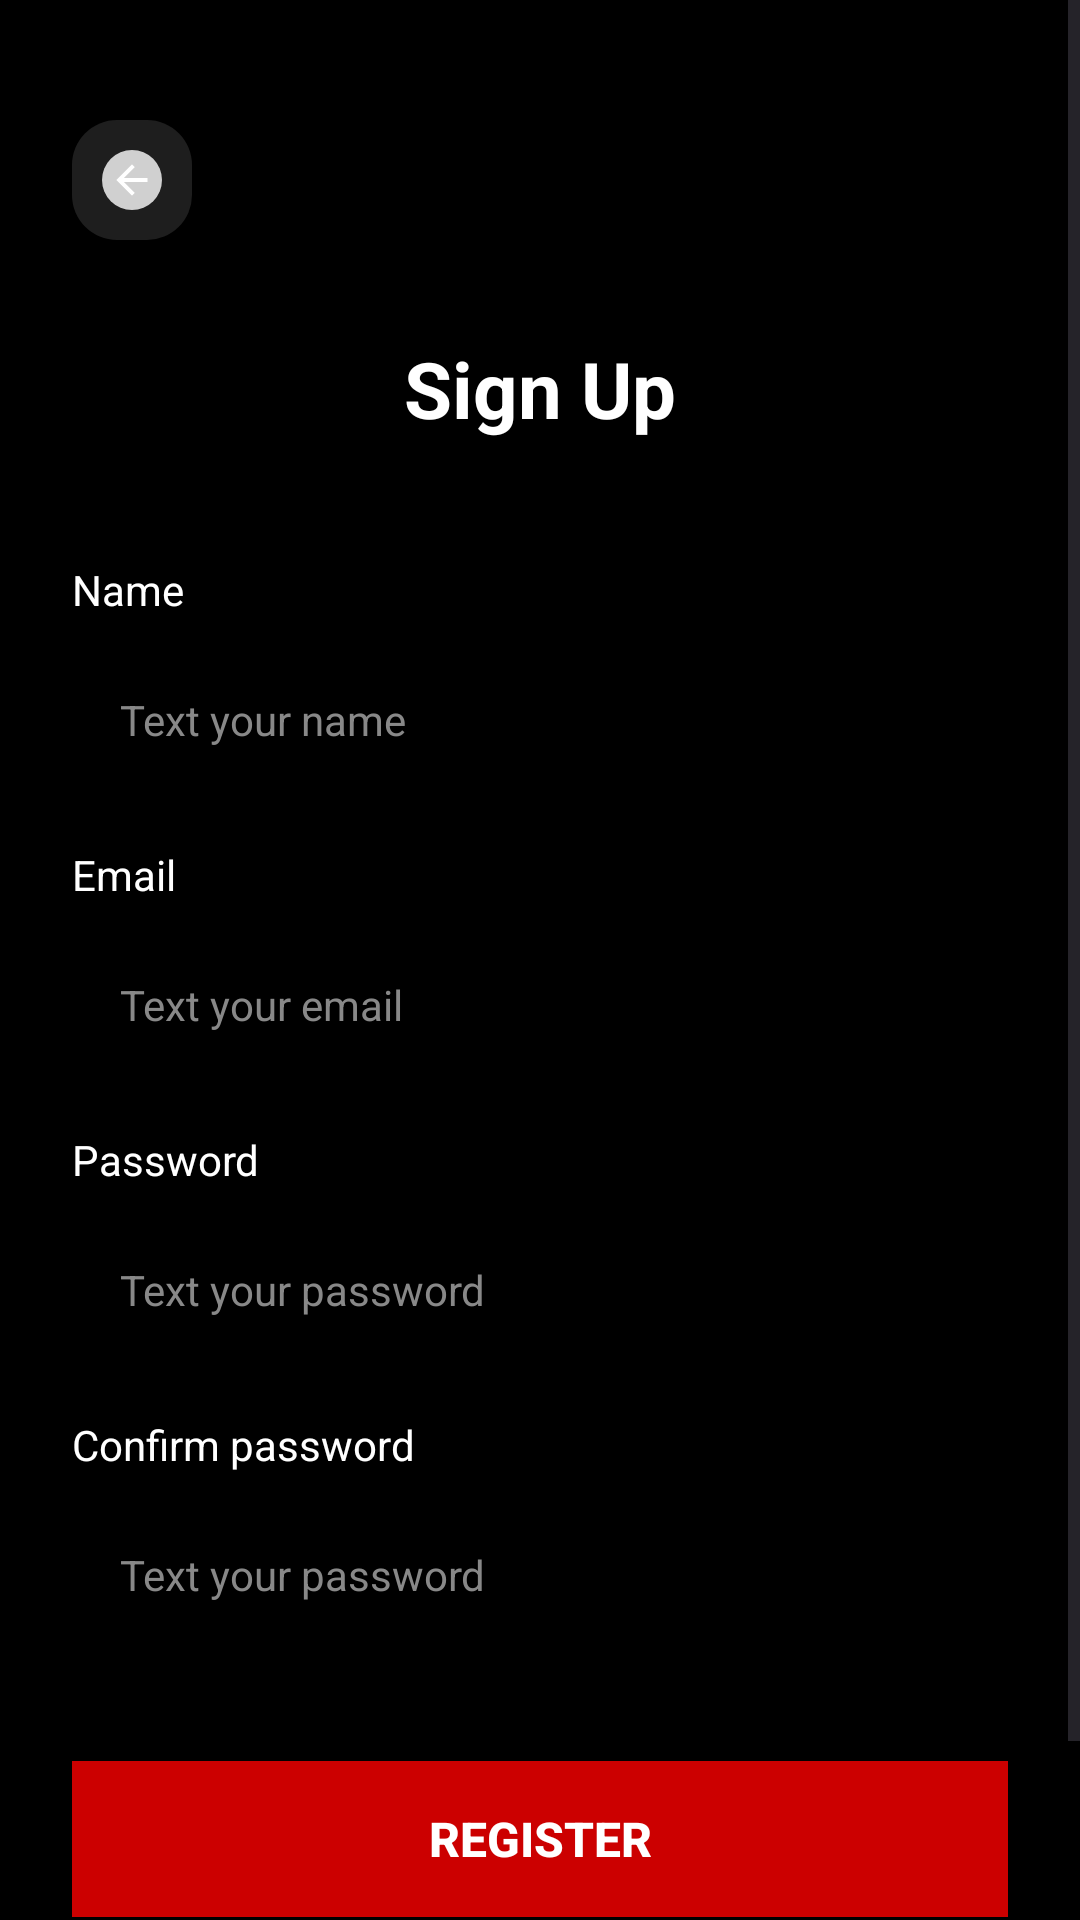

Icon bounding boxes for this 1080w x 1920h phone screenshot, format bbox=[x1, y1, x2, y2]:
Back: bbox=[72, 120, 192, 240]
